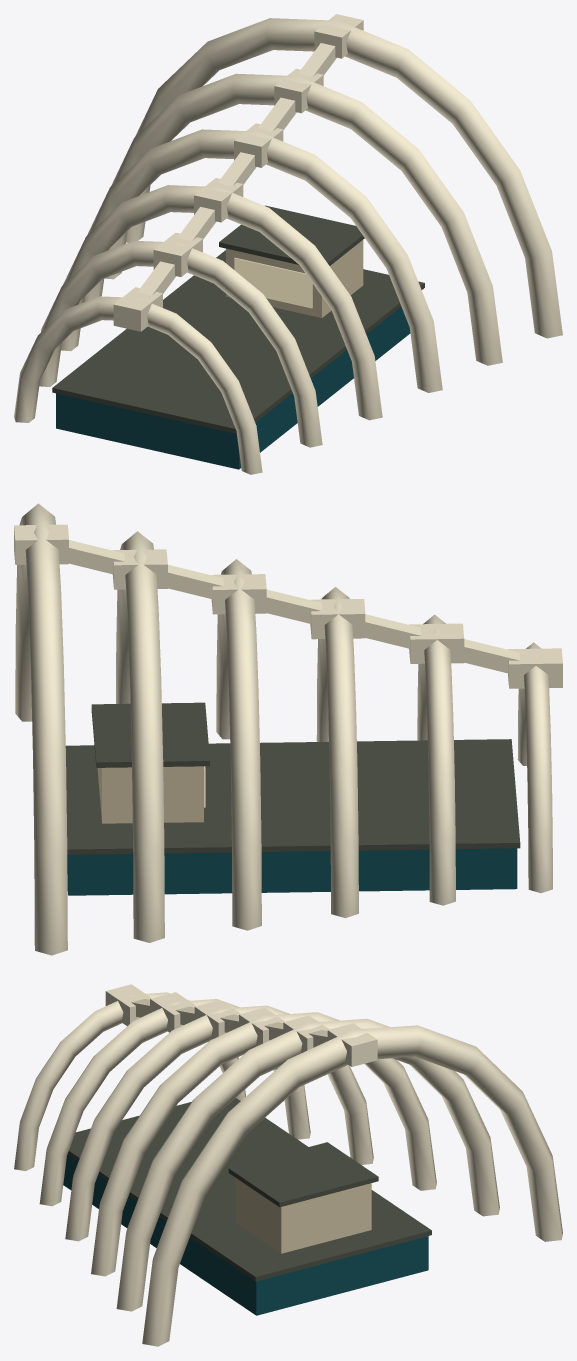
The model's file is ribcage.glb.
The picture shows the model from 3 angles, top to bottom: view 1: azimuth 30°, elevation 25°; view 2: azimuth 150°, elevation 25°; view 3: azimuth 270°, elevation 25°; orthographic projection. The views are drawn at different scales.
Visible parts, largest first — view 1: Cage; view 2: Cage; view 3: Cage.
Part boxes in pixels (x1,y1,x2,y2): Cage: (14,14,562,474); Cage: (14,503,562,955); Cage: (14,984,562,1346).
Size of the model in its own units: 22.5 by 11.75 by 21.64.
